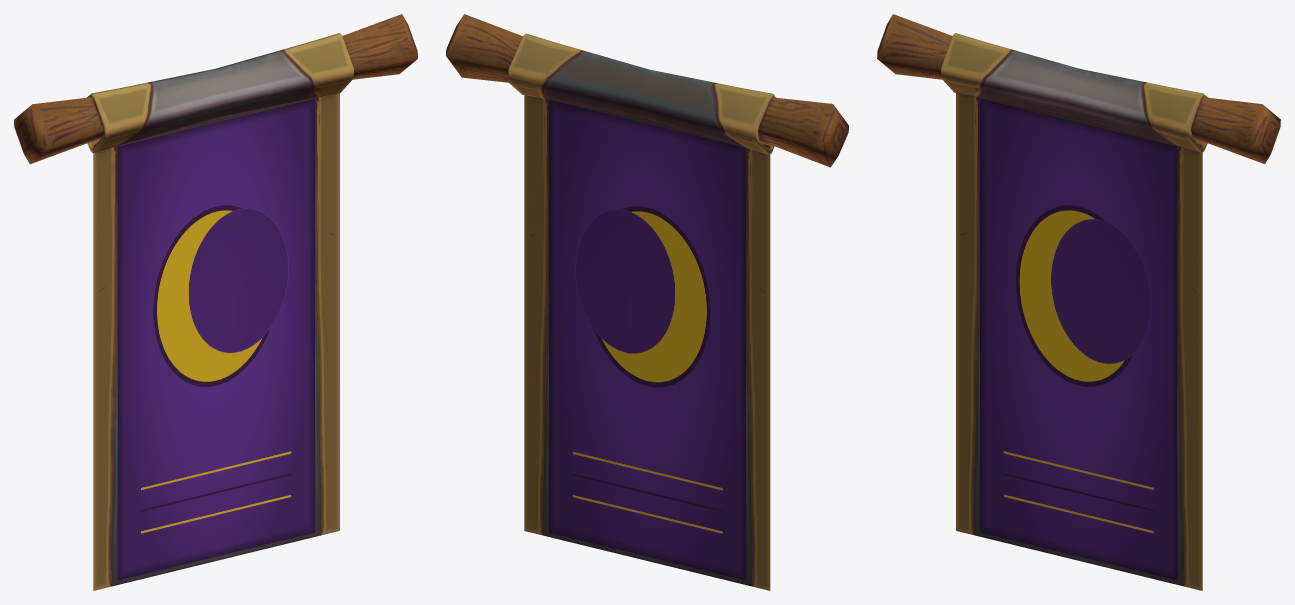
Rendered from Bandera_Cinematica.fbx.
3 renders of one model, left to right at view 1: azimuth 30°, elevation 25°; view 2: azimuth 150°, elevation 25°; view 3: azimuth 330°, elevation 25°, orthographic.
Visible parts, largest first — view 1: Bandera_bandera_low, Bandera_baner_low, Bandera_base_low; view 2: Bandera_bandera_low, Bandera_baner_low, Bandera_base_low; view 3: Bandera_bandera_low, Bandera_baner_low, Bandera_base_low.
Part boxes in pixels (bbox=[...]): Bandera_bandera_low: bbox=[93, 93, 339, 590]; Bandera_baner_low: bbox=[87, 33, 353, 153]; Bandera_base_low: bbox=[14, 14, 417, 164]; Bandera_bandera_low: bbox=[524, 95, 770, 590]; Bandera_baner_low: bbox=[508, 33, 775, 154]; Bandera_base_low: bbox=[446, 14, 848, 167]; Bandera_bandera_low: bbox=[956, 93, 1202, 590]; Bandera_baner_low: bbox=[941, 33, 1207, 152]; Bandera_base_low: bbox=[877, 14, 1280, 164].
Bounding box in the file's own units: 1 × 1.25 × 0.1544.
